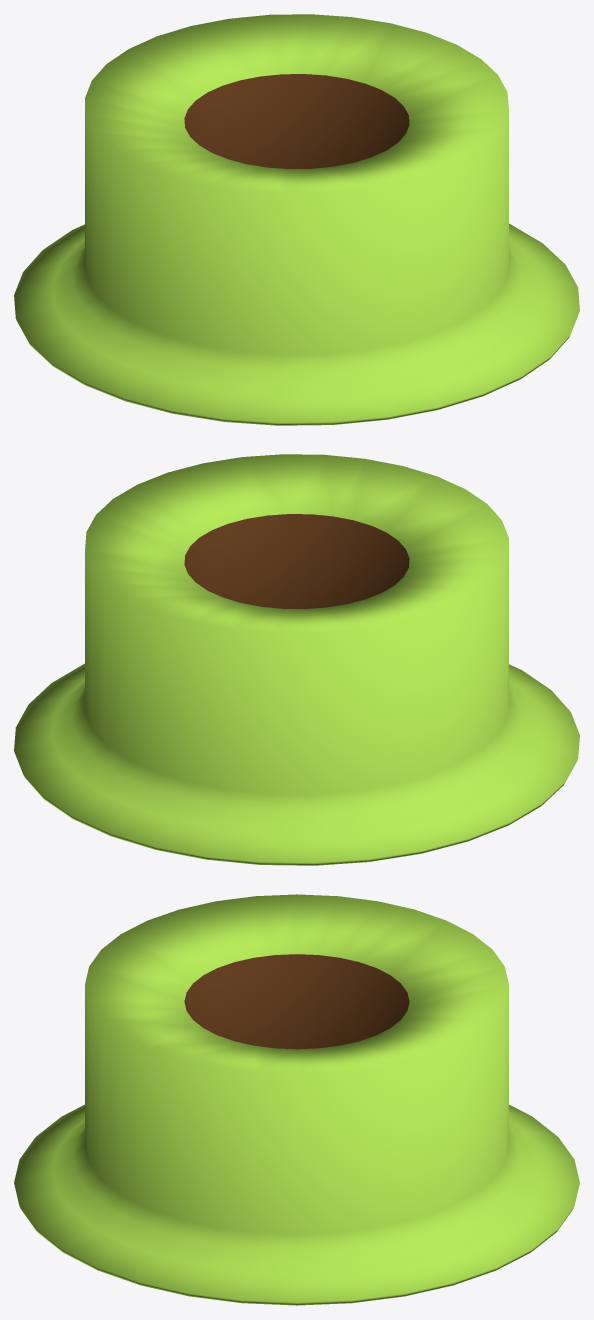
The model's file is mainisland.glb.
The picture shows the model from 3 angles, top to bottom: view 1: azimuth 30°, elevation 25°; view 2: azimuth 150°, elevation 25°; view 3: azimuth 270°, elevation 25°; orthographic projection.
Parts seen in each view (by area): view 1: Circle; view 2: Circle; view 3: Circle.
Boxes of the visible parts, x1,y1,x2,y2 form: Circle: [14, 14, 579, 425]; Circle: [14, 454, 579, 865]; Circle: [14, 894, 579, 1305].
Bounding box in the file's own units: 8.73 × 3.45 × 8.73.
